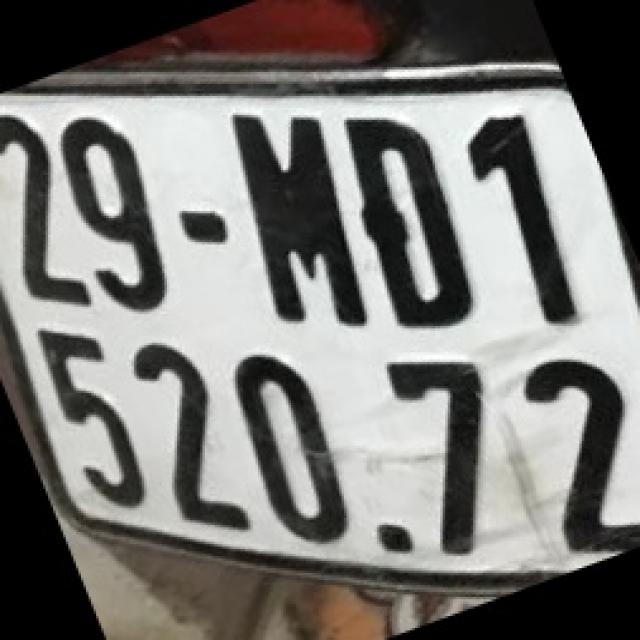0: (238, 348, 359, 551)
1: (469, 105, 583, 322)
2: (516, 350, 640, 558), (136, 340, 242, 542)
5: (29, 323, 143, 518)
7: (394, 344, 484, 560)
9: (60, 110, 174, 314)
D: (354, 110, 478, 333)
M: (229, 108, 355, 331)
